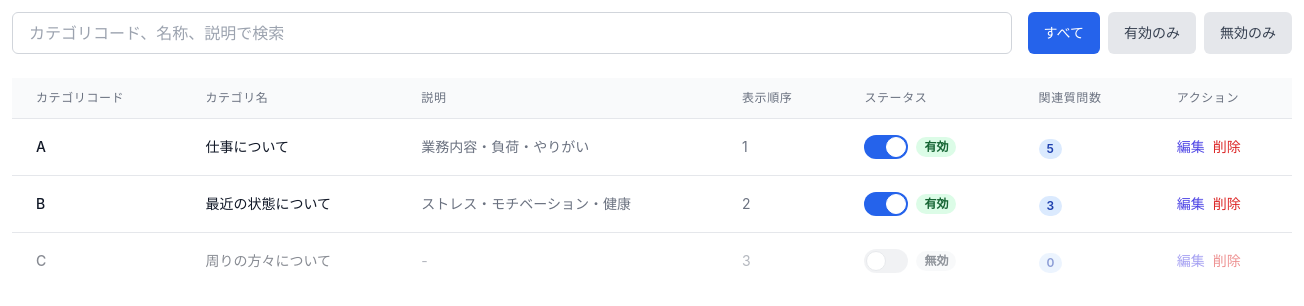
Test: CategoryTableWithFilter（統合テスト） › フィルタ機能 › 「すべて」フィルタで全カテゴリを表示する
The width and height of the screenshot is (1304, 306).
// まず「有効のみ」に切り替え
Click the button "有効のみ" at (1152, 33), box 1108,12 -> 1196,54
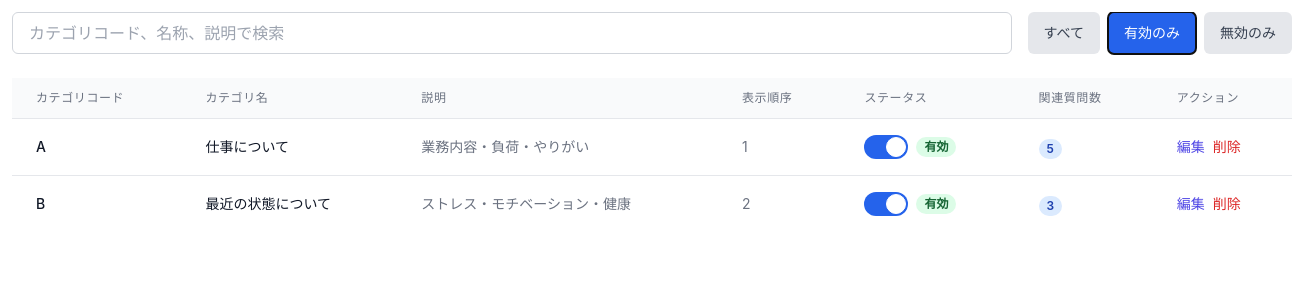
// 「すべて」に戻す
Click the button "すべて" at (1064, 33), box 1028,12 -> 1100,54
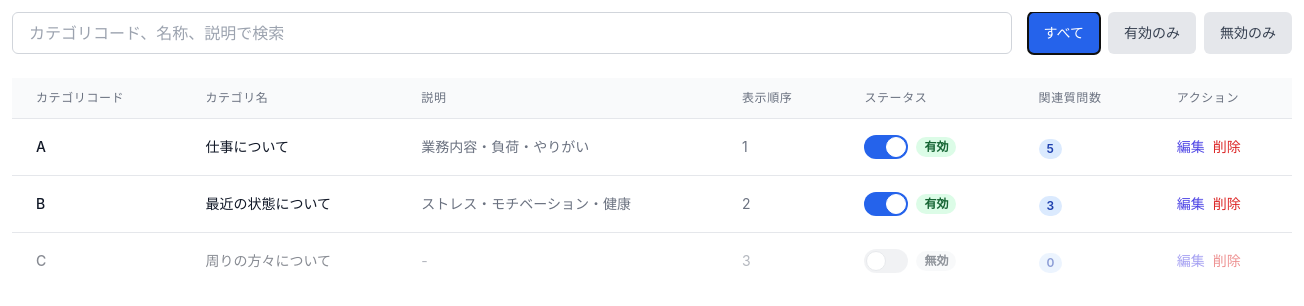
Expected: the text "仕事について" is shown, 181,118 -> 397,176
Result: the text "周りの方々について" is shown at 181,232 -> 397,289
